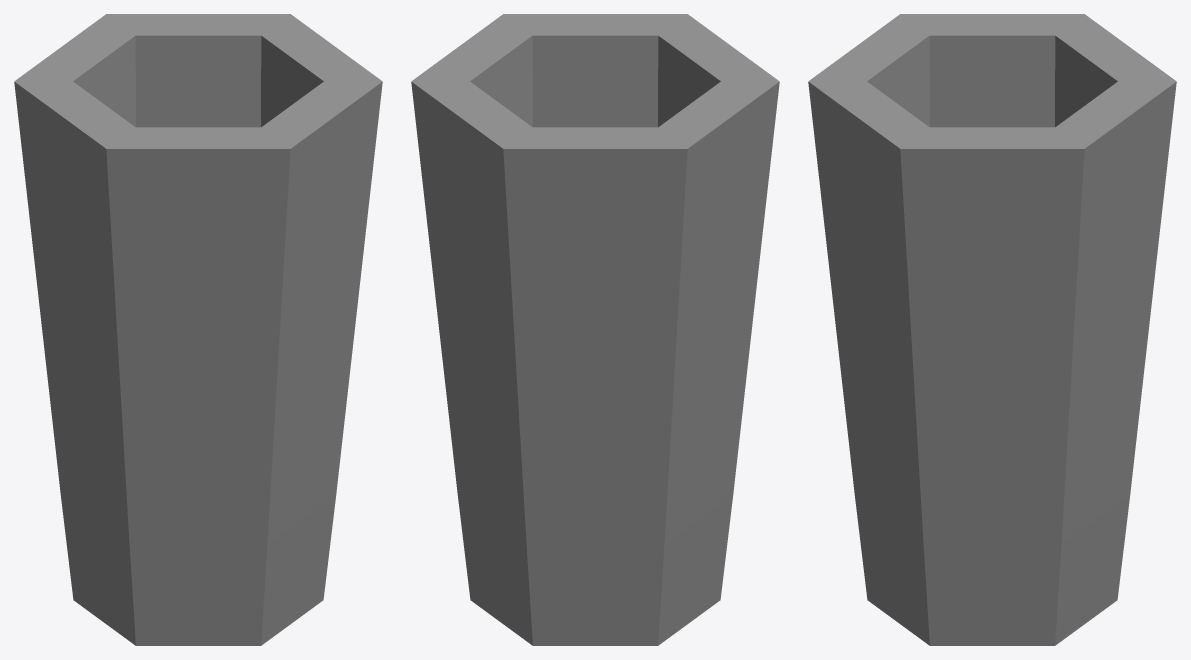
The model's file is Cup.fbx.
The picture shows the model from 3 angles, left to right: view 1: azimuth 30°, elevation 25°; view 2: azimuth 150°, elevation 25°; view 3: azimuth 270°, elevation 25°; orthographic projection.
Parts seen in each view (by area): view 1: Cup; view 2: Cup; view 3: Cup.
Boxes of the visible parts, x1=… form: Cup: x1=14, y1=14, x2=382, y2=645; Cup: x1=411, y1=14, x2=779, y2=645; Cup: x1=808, y1=14, x2=1176, y2=645.
Bounding box in the file's own units: 0.1064 × 0.1908 × 0.1229.
